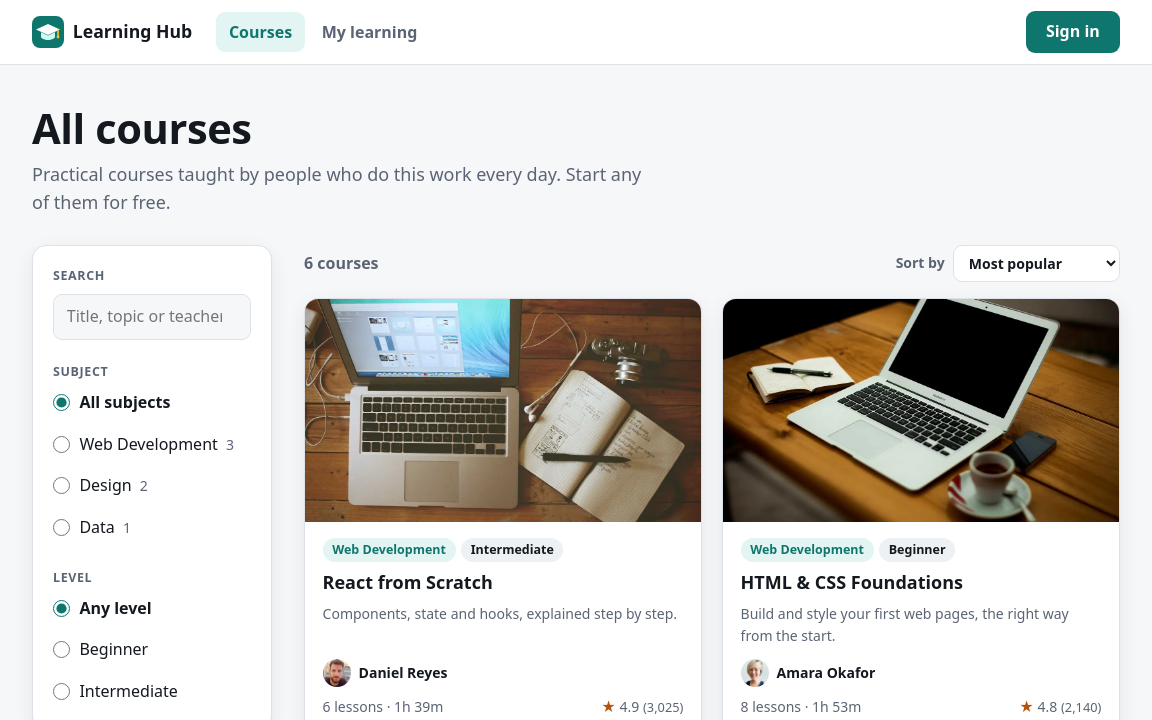
Test: browsing › searches as you type
This screenshot has width=1152, height=720.
Type "access" into the search field labelled "Search" at [152, 317], box [53,294,251,340]
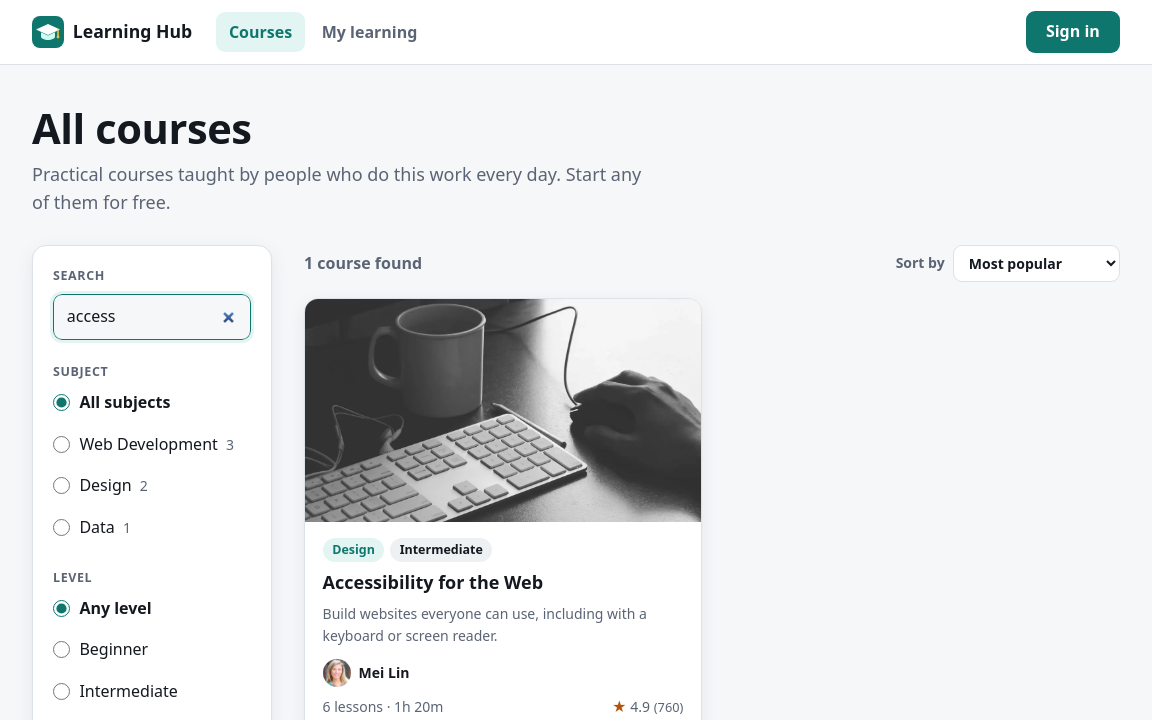
Check: the link "Accessibility for the Web" is shown, box [323,570,543,594]
Check: the heading "1 course found" is shown, box [304,251,422,276]
